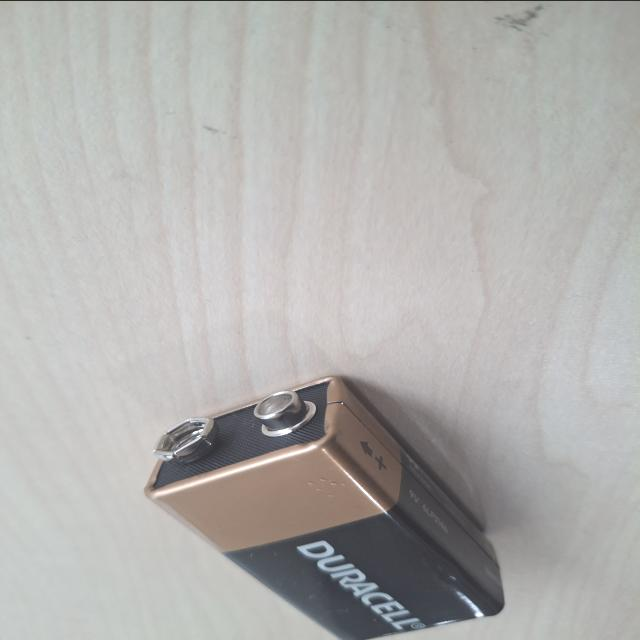9V: (0, 270, 351, 538)
